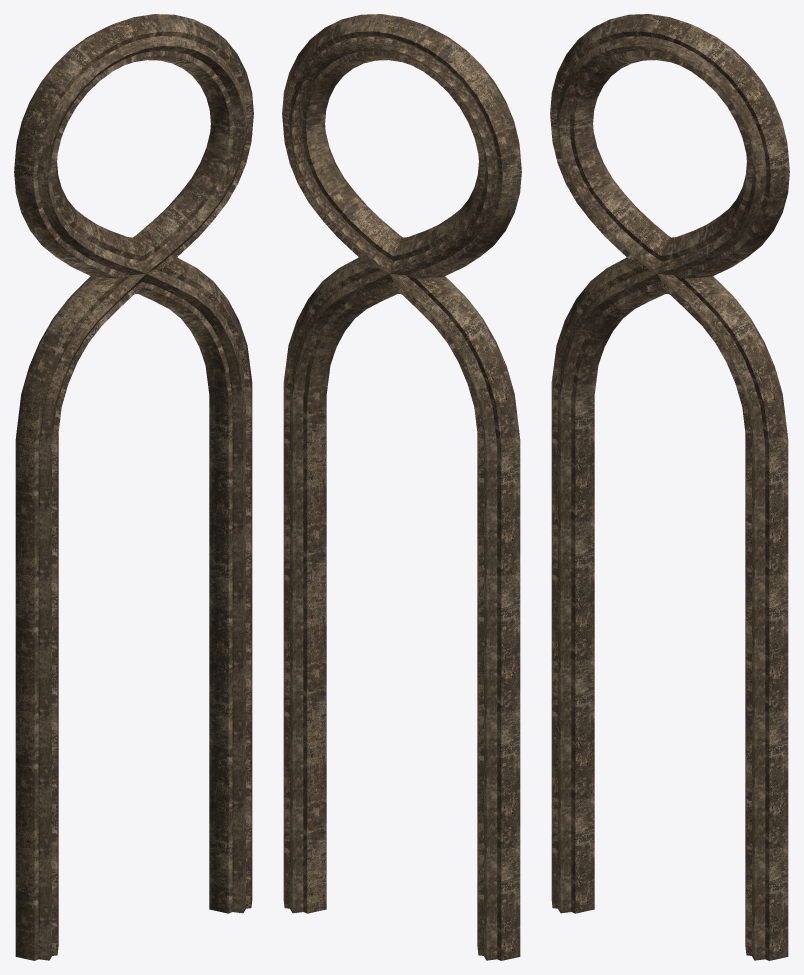
File: materials_5_decoration_0.fbx
The picture shows the model from 3 angles, left to right: view 1: azimuth 30°, elevation 25°; view 2: azimuth 150°, elevation 25°; view 3: azimuth 330°, elevation 25°; orthographic projection.
Visible parts, largest first — view 1: materials_5_decoration_0; view 2: materials_5_decoration_0; view 3: materials_5_decoration_0.
Boxes of the visible parts, bbox=[...] form: materials_5_decoration_0: bbox=[14, 14, 253, 960]; materials_5_decoration_0: bbox=[282, 14, 521, 960]; materials_5_decoration_0: bbox=[550, 14, 789, 960].
Bounding box in the file's own units: 55.16 × 200 × 9.9.
